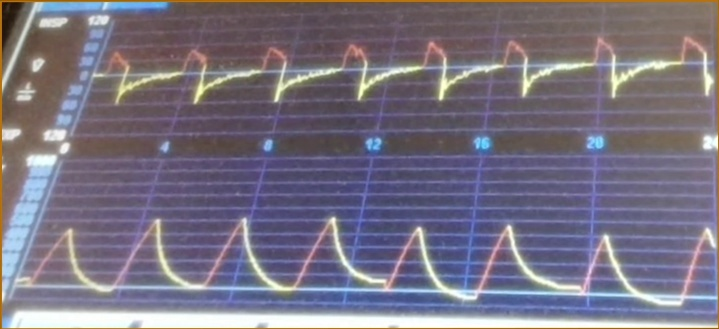Accumulation Flow: (105, 33, 715, 129)
Volume: (38, 210, 713, 309)
